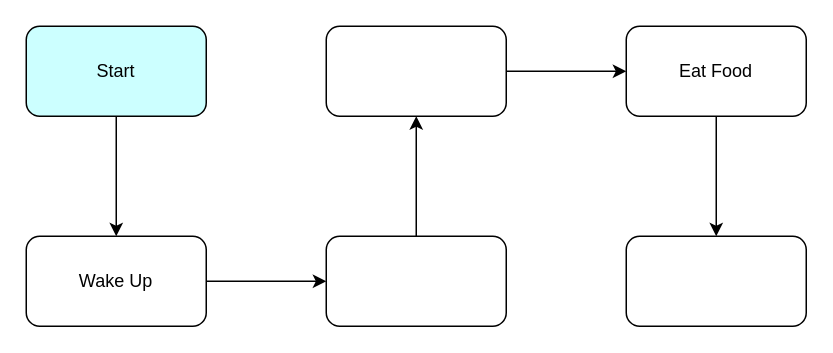
This 833x353 diagram has some shape labels left out. Here are the shapes that lost their labels. From the top down, the centre of each, then its label:
At [415,70]: "Dress Up".
At [415,280]: "Shower".
